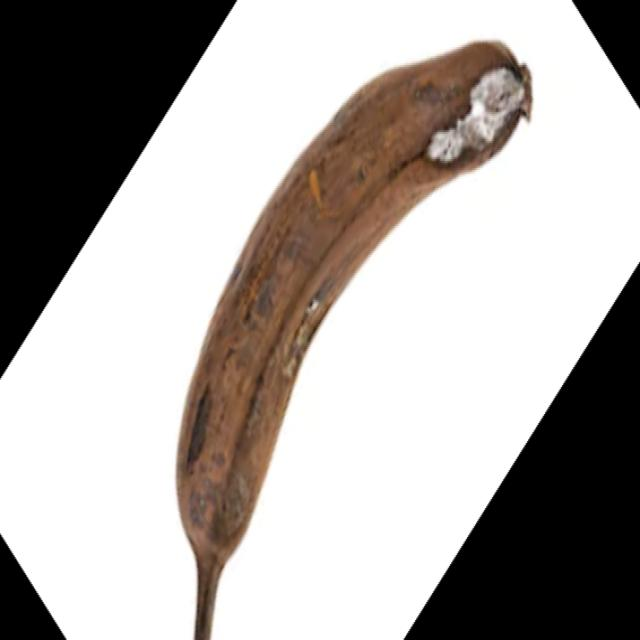Rotten: (174, 38, 532, 640)
